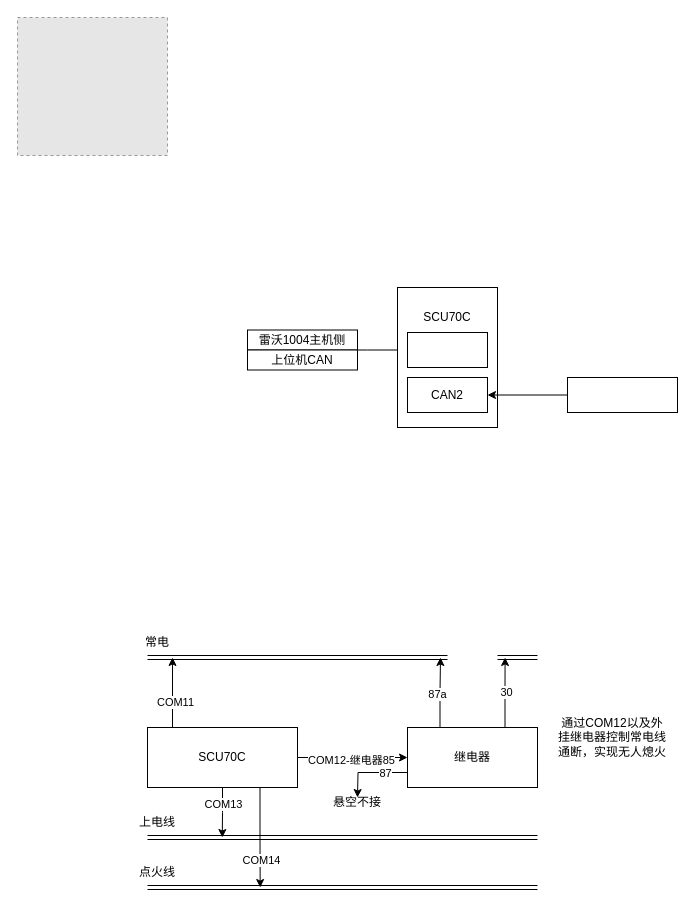
The diagram is 695 pixels wide and 913 high, and some of its shapes have lost their labels. Grey dashed boxes stand in for pictures. The shapes that lost their labels are listed below. From the top down, each one's centre as x and y in pixels, then its label:
At pixel 447 350: "CAN1".
At pixel 622 394: "雷沃1004操作侧".
